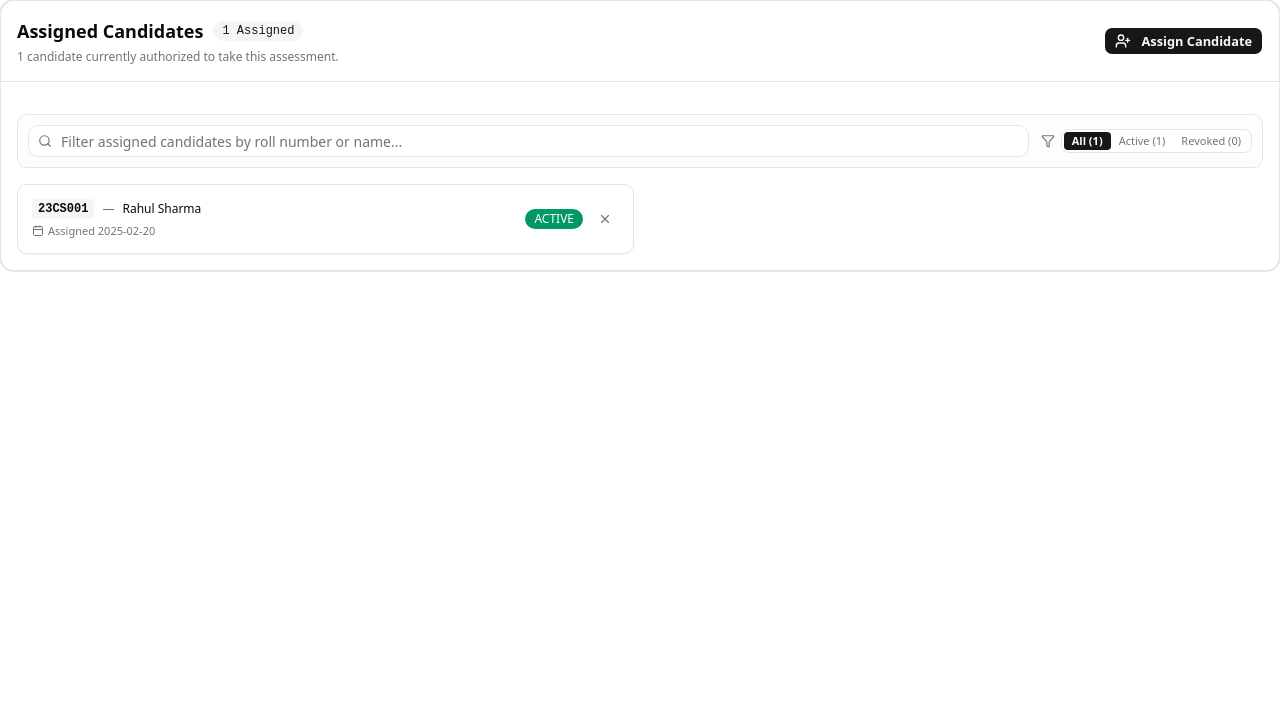
Scenario: AssignmentManager › opens assign dialog and allows selecting candidate via autocomplete
The image size is (1280, 720).
Click Assign Candidate button
Click the button "Assign Candidate".
click(1184, 41)  # box [1104,27,1263,55]
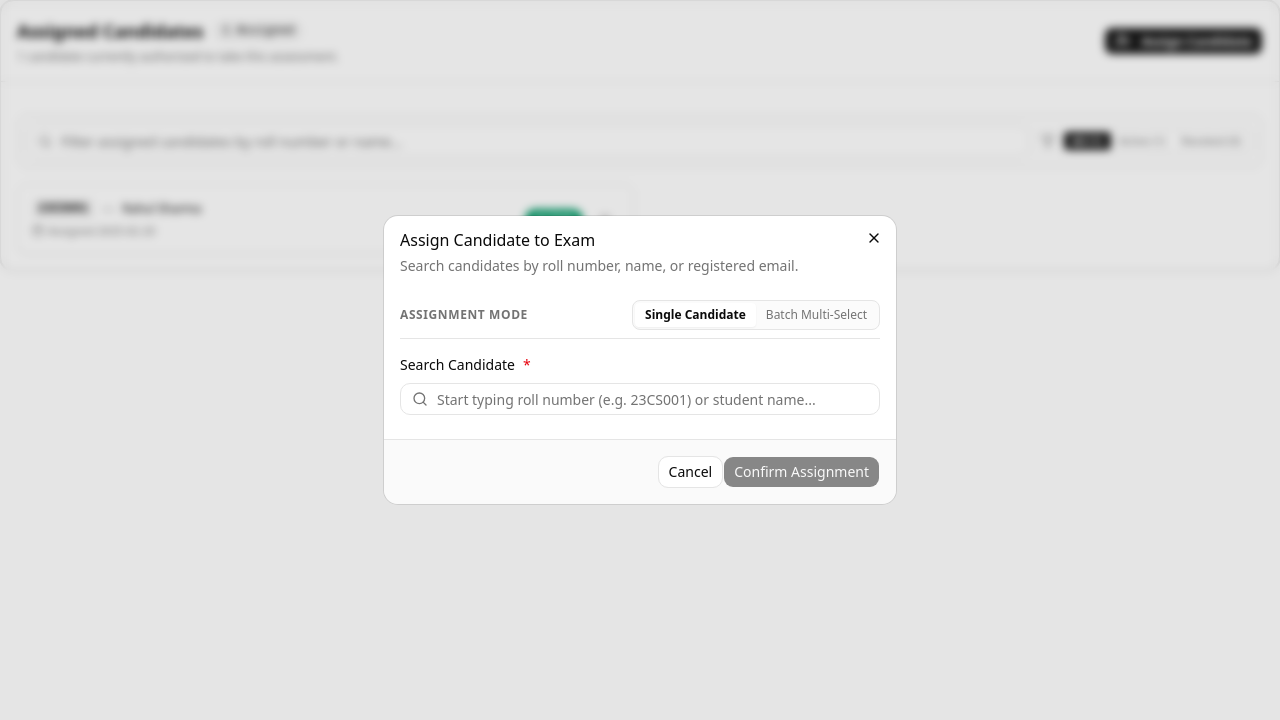
Check: the heading "Assign Candidate to Exam" is shown, box [400,229,595,251]
Type roll number to search
Type "23CS" into the dropdown.
click(640, 399); type("23CS")  # box [400,383,880,415]
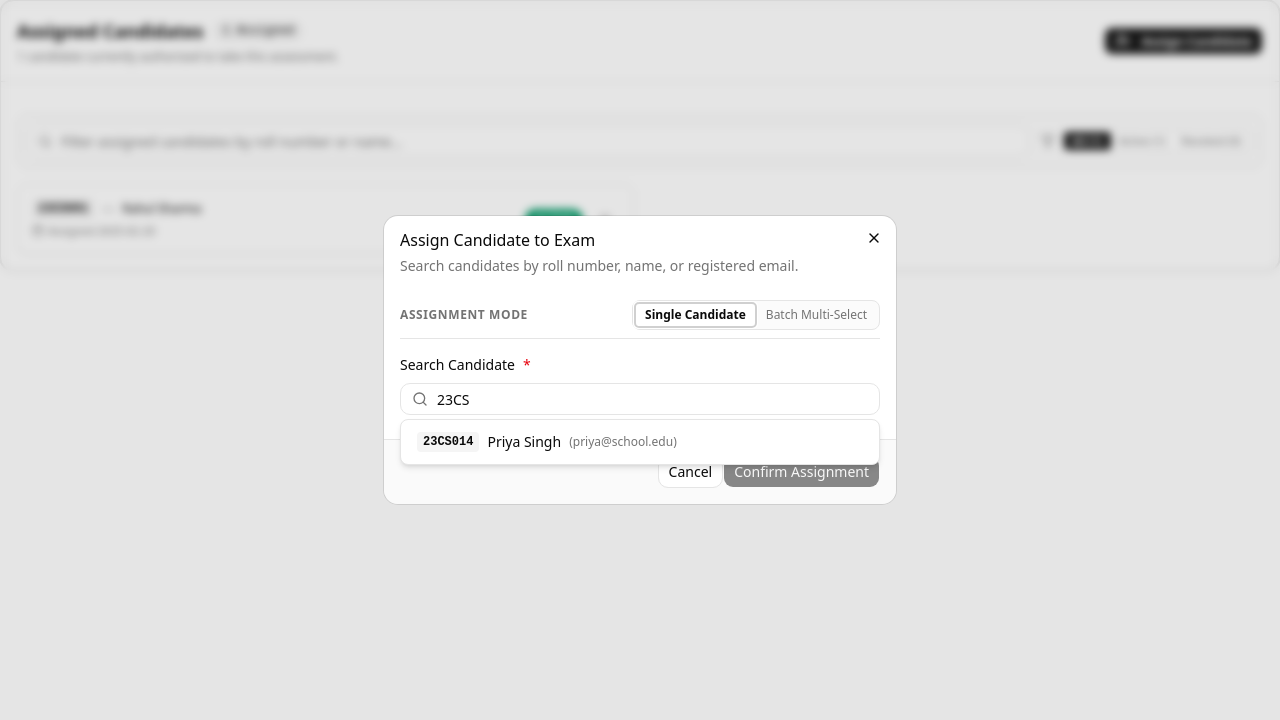
Check: the text "Priya Singh" is shown, box [487,432,561,452]
Select Priya Singh
Click the option "23CS014 Priya Singh (priya@school.edu)".
click(547, 442)  # box [417,432,677,452]
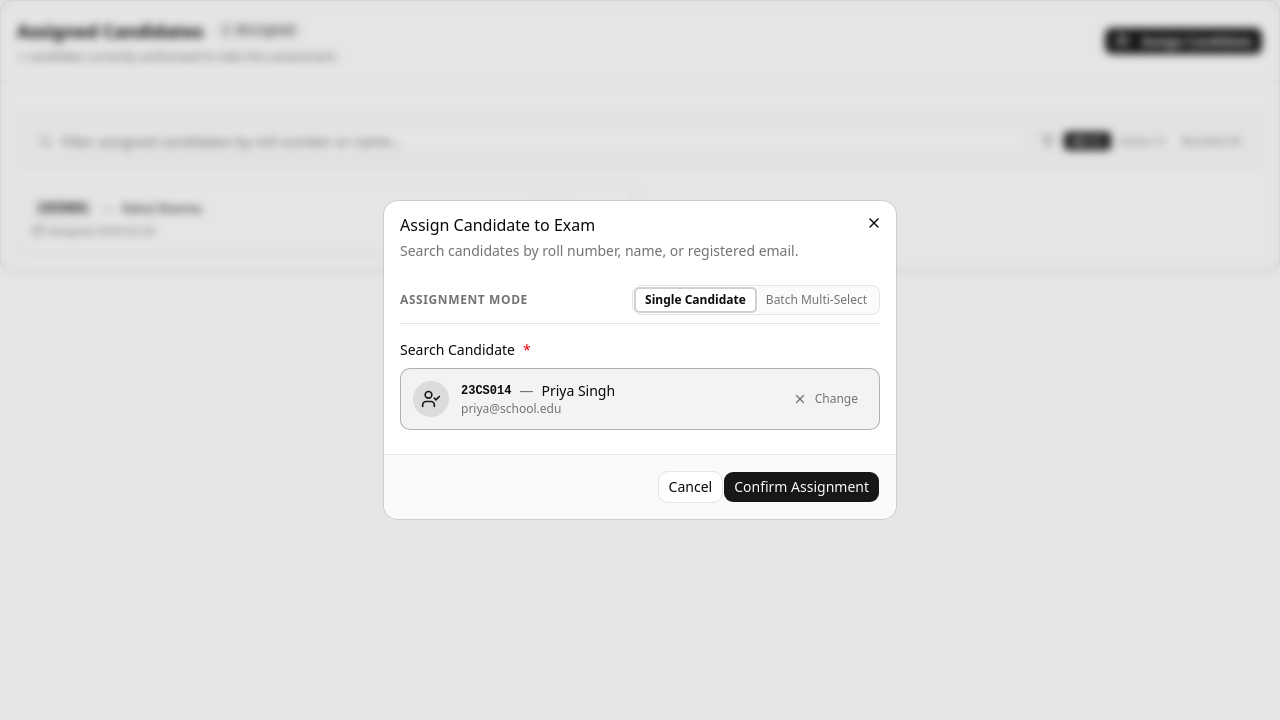
Check: the text "23CS014" is shown, box [461,383,511,399]
Check: the element with test id "selected-student-card" is shown, box [400,368,880,430]
Click Confirm Assignment
Click the button "Confirm Assignment".
click(802, 487)  # box [723,471,880,503]
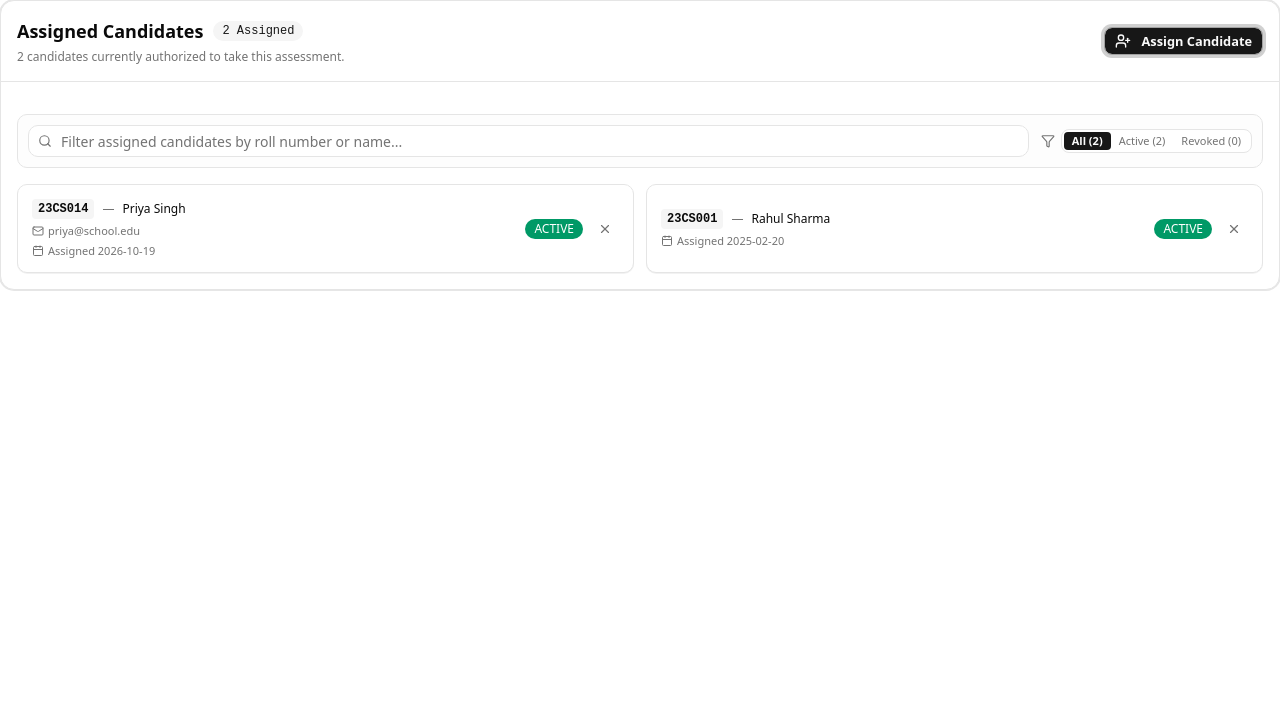
Check: the text "23CS014" is shown, box [32,199,94,219]
Check: the text "Priya Singh" is shown, box [122,201,186,217]
